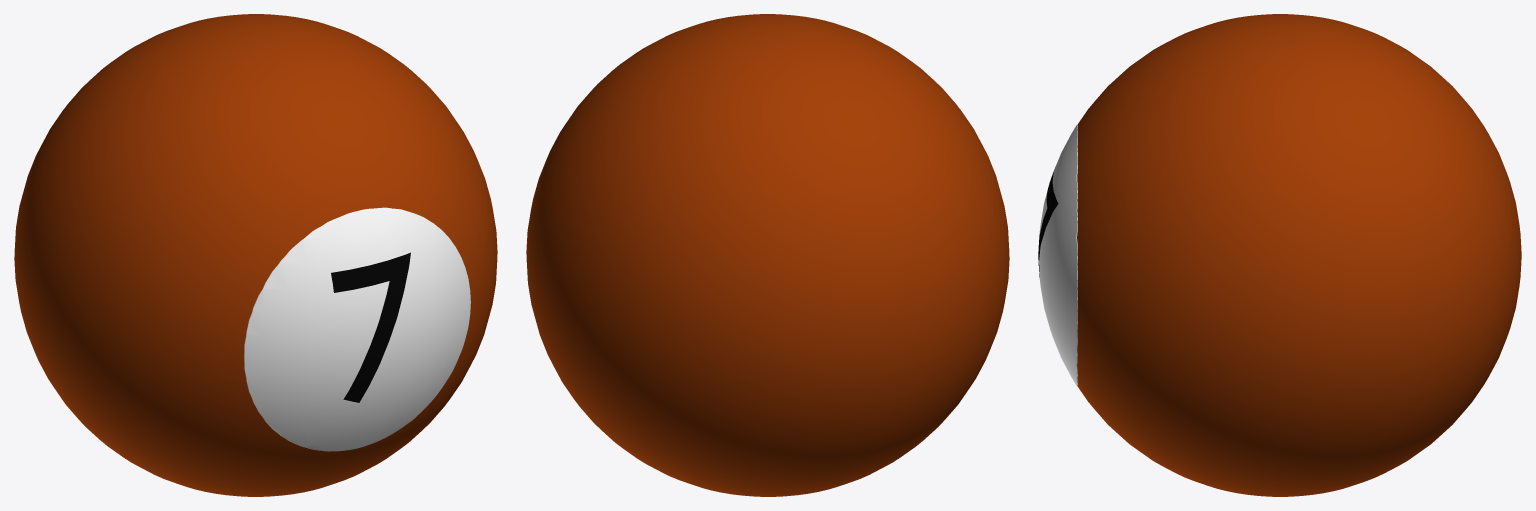
Rendered from Ball7.fbx.
3 renders of one model, left to right at view 1: azimuth 30°, elevation 25°; view 2: azimuth 150°, elevation 25°; view 3: azimuth 270°, elevation 25°, orthographic.
Visible parts, largest first — view 1: Ball7; view 2: Ball7; view 3: Ball7.
Boxes of the visible parts, bbox=[...] form: Ball7: bbox=[14, 14, 497, 496]; Ball7: bbox=[526, 14, 1009, 496]; Ball7: bbox=[1038, 14, 1521, 496].
Bounding box in the file's own units: 5.7 × 5.7 × 5.7.
